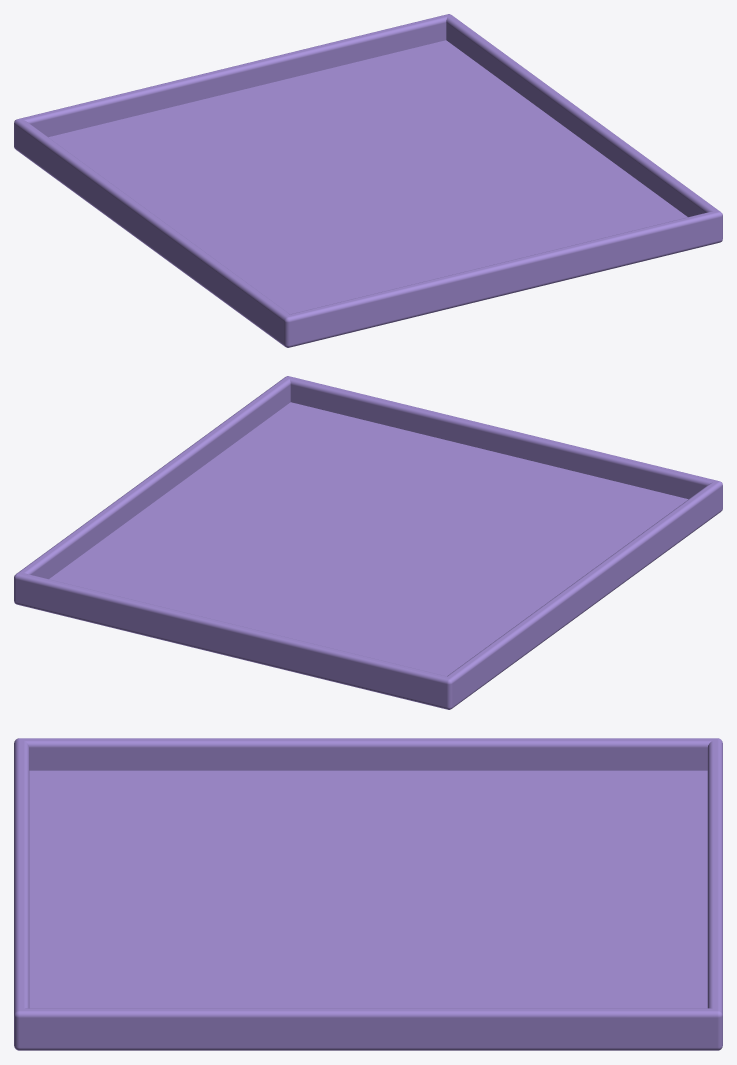
The model's file is SM_BunTray.glb.
3 renders of one model, top to bottom at view 1: azimuth 30°, elevation 25°; view 2: azimuth 150°, elevation 25°; view 3: azimuth 270°, elevation 25°, orthographic. The views are drawn at different scales.
Visible parts, largest first — view 1: SM_BunTray; view 2: SM_BunTray; view 3: SM_BunTray.
Boxes of the visible parts, x1,y1,x2,y2 form: SM_BunTray: [14, 14, 722, 347]; SM_BunTray: [14, 376, 722, 709]; SM_BunTray: [14, 738, 722, 1050].
Size of the model in its own units: 0.6 by 0.04 by 0.65.
1 material, 1 textured.
